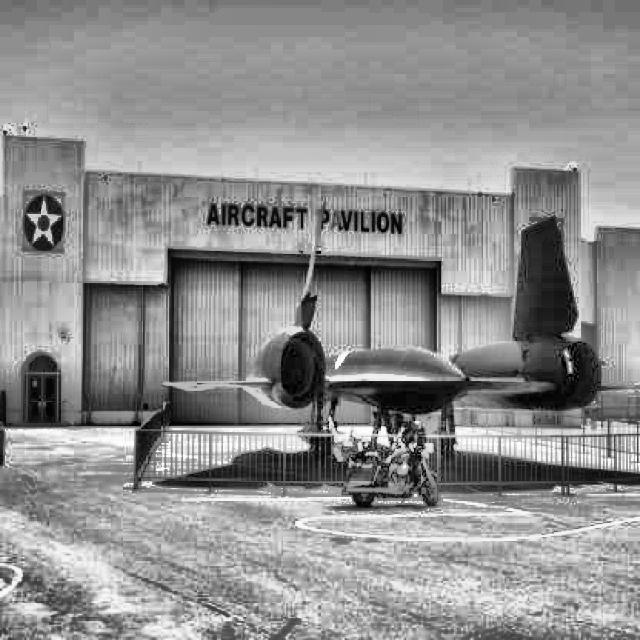SR71: (158, 201, 640, 468)
